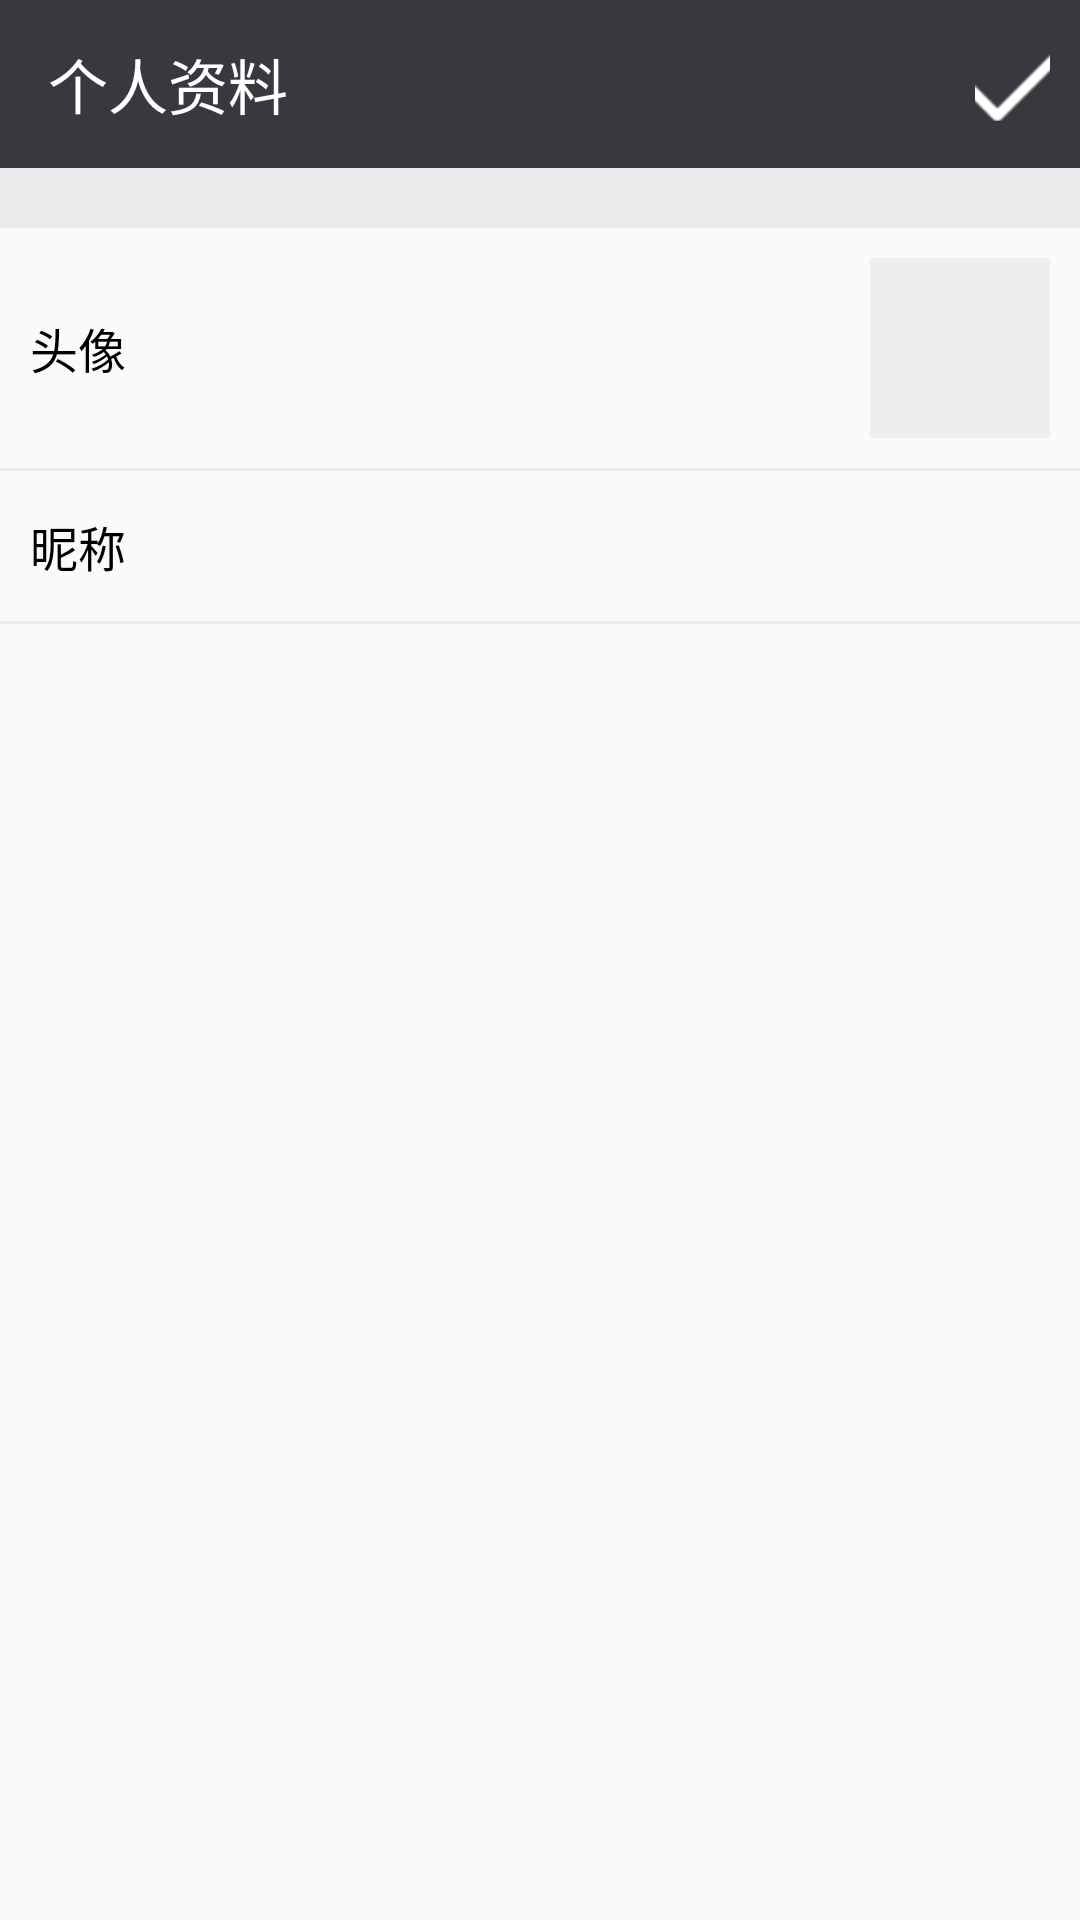

Where icons sit on this 1080px x 1920px app screen, as bbox=[x1, y1, x2, y2]:
confirm: bbox=[975, 55, 1050, 121]
